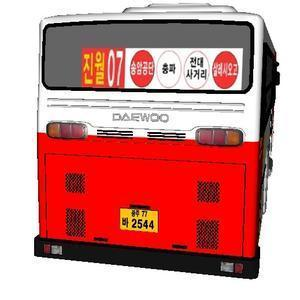07bus: (30, 1, 275, 287)
